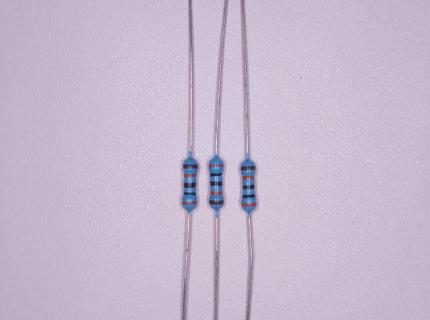Black band: (184, 182, 196, 188), (210, 181, 223, 186), (242, 184, 255, 189), (242, 194, 255, 198), (210, 173, 222, 177), (183, 192, 196, 195)
Brown band: (182, 164, 198, 169), (241, 166, 256, 171), (209, 200, 224, 205)
Orange band: (242, 202, 257, 207), (184, 173, 197, 178), (210, 191, 223, 196), (242, 175, 255, 180), (209, 164, 224, 168), (182, 201, 196, 205)
